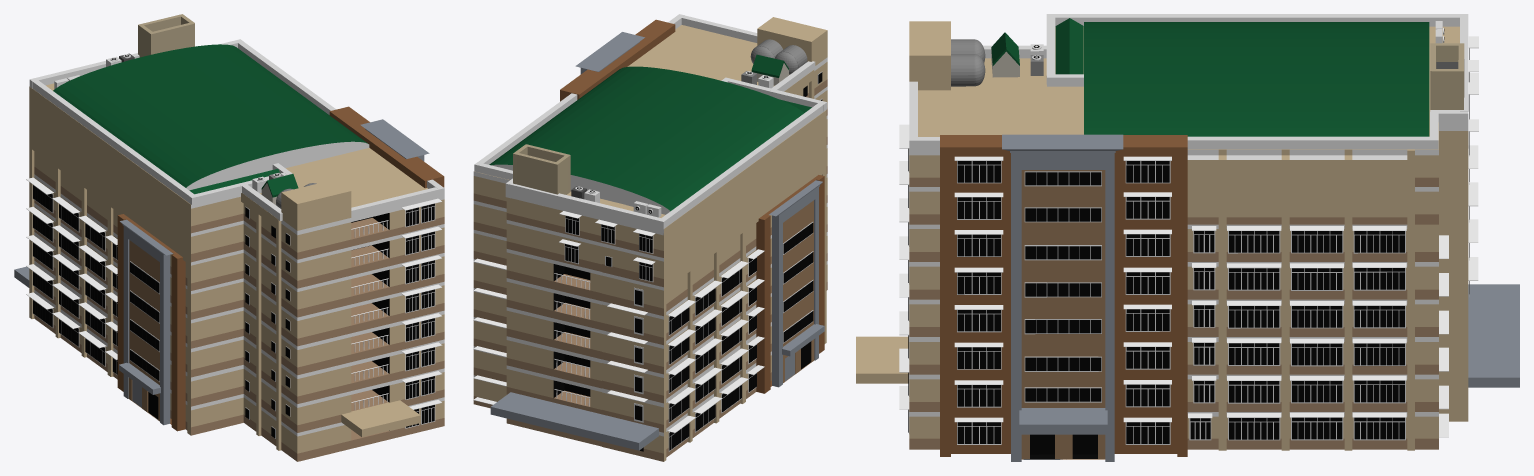
File: bautista.glb
The picture shows the model from 3 angles, left to right: view 1: azimuth 30°, elevation 25°; view 2: azimuth 150°, elevation 25°; view 3: azimuth 270°, elevation 25°; orthographic projection. The views are drawn at different scales.
Parts seen in each view (by area): view 1: bautista; view 2: bautista; view 3: bautista.
Boxes of the visible parts, bbox=[...] form: bautista: bbox=[14, 14, 444, 461]; bautista: bbox=[473, 14, 827, 461]; bautista: bbox=[856, 14, 1519, 461].
Bounding box in the file's own units: 3.53 × 3.48 × 6.02.
